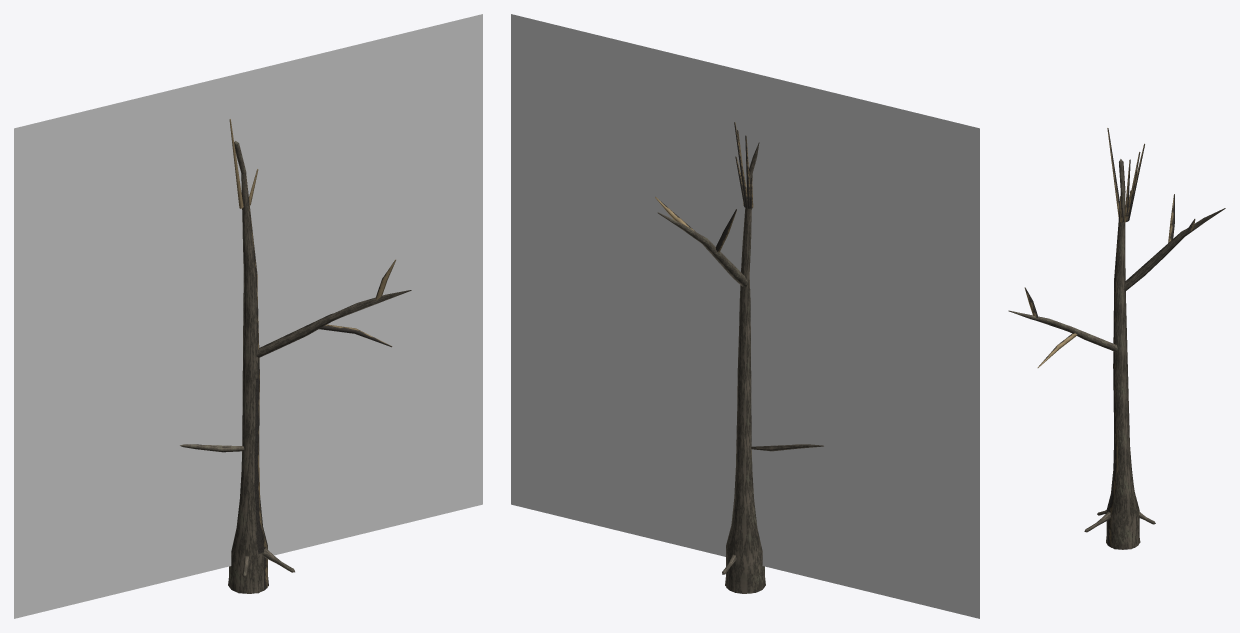
File: foudroye_jeune_a.fbx
3 views of the same model, side by side, from view 1: azimuth 30°, elevation 25°; view 2: azimuth 150°, elevation 25°; view 3: azimuth 270°, elevation 25° (orthographic). The views are drawn at different scales.
Parts seen in each view (by area): view 1: foudroye_jeune_a_LOD3, foudroye_jeune_a_LOD1, foudroye_jeune_a_LOD2; view 2: foudroye_jeune_a_LOD3, foudroye_jeune_a_LOD1, foudroye_jeune_a_LOD2; view 3: foudroye_jeune_a_LOD1, foudroye_jeune_a_LOD2.
Part boxes in pixels (bbox=[...]): foudroye_jeune_a_LOD3: bbox=[14, 14, 482, 618]; foudroye_jeune_a_LOD1: bbox=[180, 119, 411, 593]; foudroye_jeune_a_LOD2: bbox=[204, 119, 410, 593]; foudroye_jeune_a_LOD3: bbox=[511, 14, 979, 618]; foudroye_jeune_a_LOD1: bbox=[655, 122, 823, 593]; foudroye_jeune_a_LOD2: bbox=[655, 122, 823, 592]; foudroye_jeune_a_LOD1: bbox=[1008, 128, 1225, 549]; foudroye_jeune_a_LOD2: bbox=[1025, 129, 1223, 549].
Size of what is drawn, in the model's own units: 4.45 by 4.67 by 2.13.
